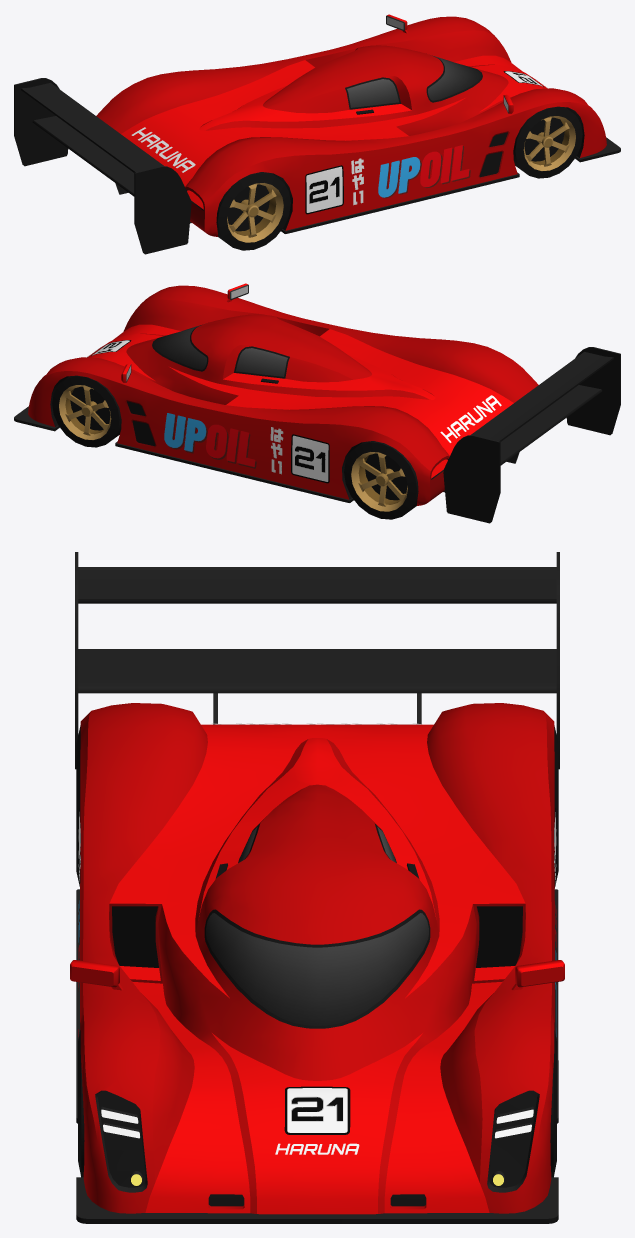
File: RaceCar_023.glb
3 views of the same model, one above another, from view 1: azimuth 30°, elevation 25°; view 2: azimuth 150°, elevation 25°; view 3: azimuth 270°, elevation 25° (orthographic). The views are drawn at different scales.
Visible parts, largest first — view 1: RaceCar_023, wheel_3_RaceCar_023_Wheel_2R, wheel_1_RaceCar_023_Wheel_1R; view 2: RaceCar_023, wheel_2_RaceCar_023_Wheel_2L, wheel_0_RaceCar_023_Wheel_1L; view 3: RaceCar_023.
Boxes of the visible parts, <box> form: RaceCar_023: <box>14,14,620,254</box>; wheel_3_RaceCar_023_Wheel_2R: <box>216,172,290,250</box>; wheel_1_RaceCar_023_Wheel_1R: <box>513,106,582,178</box>; RaceCar_023: <box>14,283,620,523</box>; wheel_2_RaceCar_023_Wheel_2L: <box>344,441,418,519</box>; wheel_0_RaceCar_023_Wheel_1L: <box>52,375,121,447</box>; RaceCar_023: <box>70,552,564,1223</box>.
Size of the model in its own units: 5.33 by 1.11 by 2.34.
3 materials, 3 textured.
